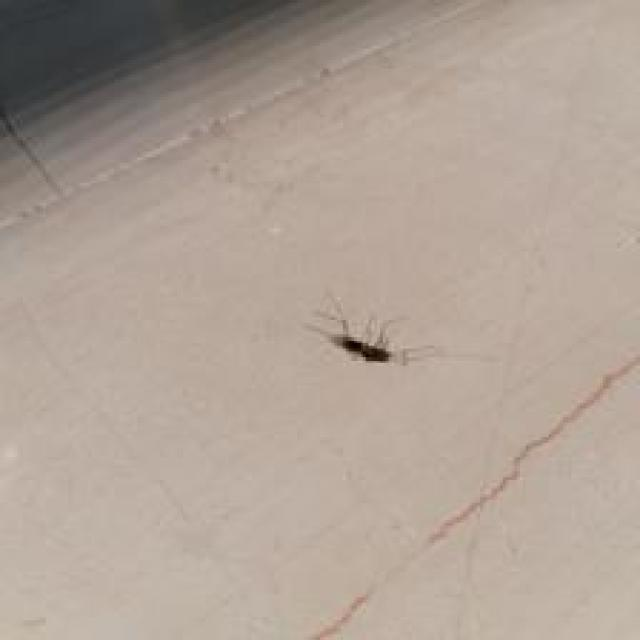Culex: (304, 296, 430, 367)
